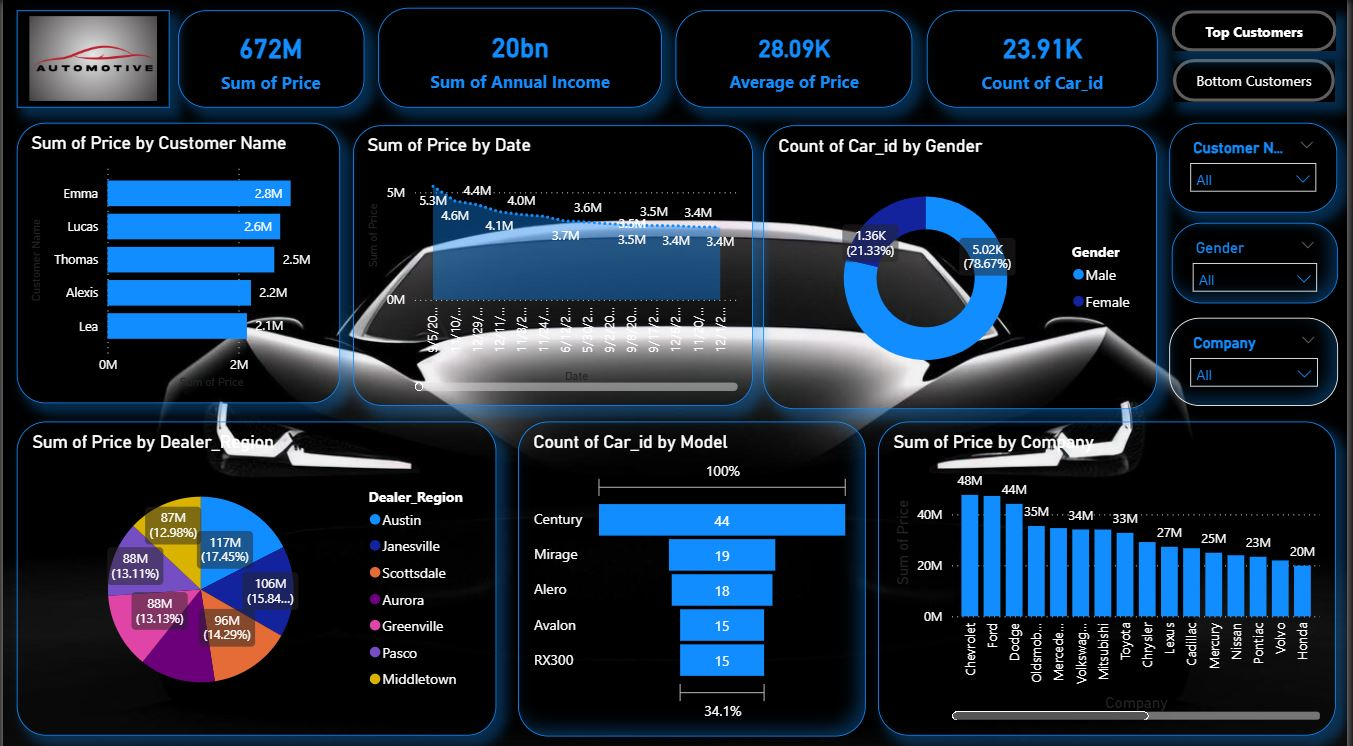

Layout of this report page (visuals, bound fields, positions):
{"tool":"powerbi","page":{"name":"Page 1","canvas":[1280,720],"ordinal":0},"visuals":[{"type":"pieChart","fields":{"Category":["Car Sales xlsx - car_data.Dealer_Region"],"Y":["Car Sales xlsx - car_data.Price ($)"]},"box":[13.1,402.4,457.1,298.8],"z":0},{"type":"areaChart","fields":{"Category":["Car Sales xlsx - car_data.Date Hierarchy.Date"],"Y":["Car Sales xlsx - car_data.Price ($)"]},"box":[333.3,120.4,380.9,267.5],"z":1000},{"type":"donutChart","fields":{"Category":["Car Sales xlsx - car_data.Gender"],"Y":["Car Sales xlsx - car_data.Car_id"]},"box":[724,120.4,375.3,270.3],"z":2000},{"type":"funnel","fields":{"Category":["Car Sales xlsx - car_data.Model"],"Y":["Car Sales xlsx - car_data.Car_id"]},"box":[490.3,401.9,331.5,299.7],"z":3000},{"type":"card","fields":{"Values":["Car Sales xlsx - car_data.Price ($)"]},"box":[166.7,10.7,177.4,92.9],"z":4000},{"type":"card","fields":{"Values":["Car Sales xlsx - car_data.Annual Income"]},"box":[357.1,8.4,270.3,95.2],"z":5000},{"type":"card","fields":{"Values":["Car Sales xlsx - car_data.Price ($)"]},"box":[640,11.2,225.5,92.4],"z":6000},{"type":"barChart","fields":{"Category":["Car Sales xlsx - car_data.Customer Name"],"Y":["Car Sales xlsx - car_data.Price ($)"]},"box":[12.6,117.6,308.1,267.5],"z":7000},{"type":"slicer","fields":{"Values":["Car Sales xlsx - car_data.Customer Name"]},"box":[1110.5,117.6,159.6,85.4],"z":8000},{"type":"card","fields":{"Values":["Car Sales xlsx - car_data.Car_id"]},"box":[879.5,11.2,219.9,92.4],"z":9000},{"type":"slicer","fields":{"Values":["Car Sales xlsx - car_data.Gender"]},"box":[1113.3,212.9,158.2,77],"z":10000},{"type":"slicer","fields":{"Values":["Car Sales xlsx - car_data.Company"]},"box":[1110.5,303.9,161.1,84],"z":11000},{"type":"image","box":[13.1,10.7,145.2,92.9],"z":12000},{"type":"clusteredColumnChart","fields":{"Category":["Car Sales xlsx - car_data.Company"],"Y":["Car Sales xlsx - car_data.Price ($)"]},"box":[832.9,402.1,436.4,299.1],"z":13000},{"type":"actionButton","box":[1114.7,57.4,154,40.6],"z":14000},{"type":"actionButton","title":"Top Customers","box":[1113.3,11.2,156.8,39.2],"z":15000}]}

Visuals, with their boxes in screenshot pixels (x1, y1, x2, y2), scaled from the page's 1280x720 canvas onto the 1353x746 screenshot:
pieChart - Car Sales xlsx - car_data.Dealer_Region x Car Sales xlsx - car_data.Price ($): 14,417,497,727
areaChart - Car Sales xlsx - car_data.Date Hierarchy.Date x Car Sales xlsx - car_data.Price ($): 352,125,755,402
donutChart - Car Sales xlsx - car_data.Gender x Car Sales xlsx - car_data.Car_id: 765,125,1162,405
funnel - Car Sales xlsx - car_data.Model x Car Sales xlsx - car_data.Car_id: 518,416,869,727
card - Car Sales xlsx - car_data.Price ($): 176,11,364,107
card - Car Sales xlsx - car_data.Annual Income: 377,9,663,107
card - Car Sales xlsx - car_data.Price ($): 676,12,915,107
barChart - Car Sales xlsx - car_data.Customer Name x Car Sales xlsx - car_data.Price ($): 13,122,339,399
slicer - Car Sales xlsx - car_data.Customer Name: 1174,122,1343,210
card - Car Sales xlsx - car_data.Car_id: 930,12,1162,107
slicer - Car Sales xlsx - car_data.Gender: 1177,221,1344,300
slicer - Car Sales xlsx - car_data.Company: 1174,315,1344,402
image: 14,11,167,107
clusteredColumnChart - Car Sales xlsx - car_data.Company x Car Sales xlsx - car_data.Price ($): 880,417,1342,727
actionButton: 1178,59,1341,102
"Top Customers" actionButton: 1177,12,1343,52
